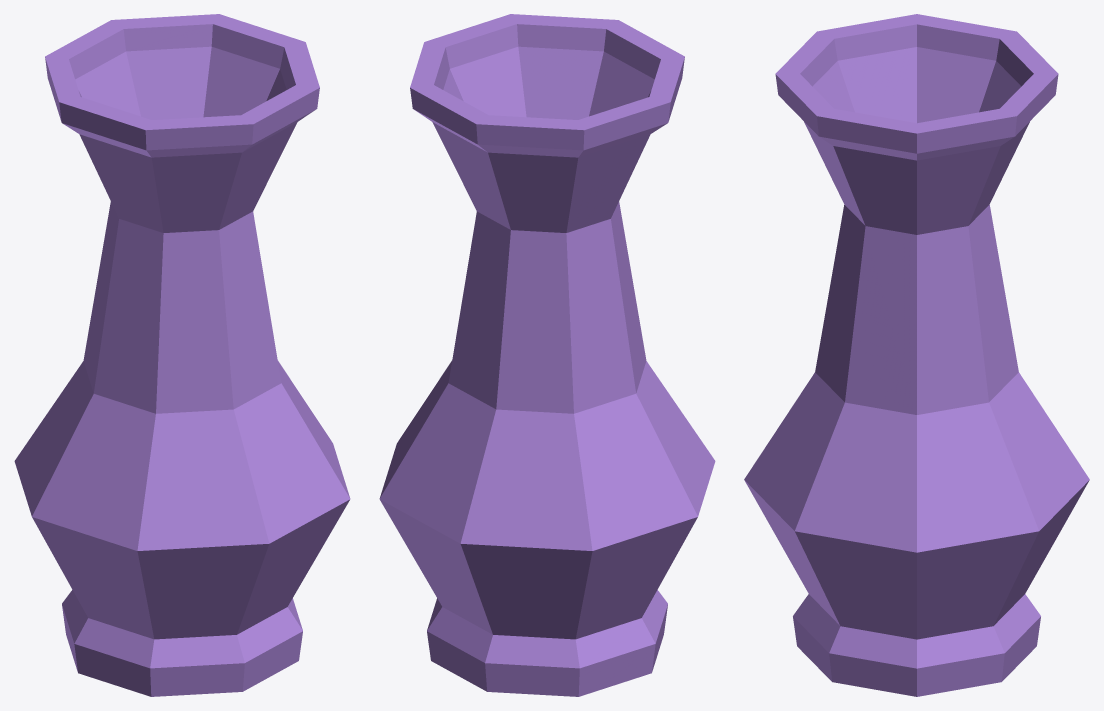
Rendered from Vase2.glb.
3 renders of one model, left to right at view 1: azimuth 30°, elevation 25°; view 2: azimuth 150°, elevation 25°; view 3: azimuth 270°, elevation 25°, orthographic.
Parts seen in each view (by area): view 1: Vase2; view 2: Vase2; view 3: Vase2.
Boxes of the visible parts, x1,y1,x2,y2 form: Vase2: (14, 14, 350, 696); Vase2: (379, 14, 715, 696); Vase2: (744, 14, 1089, 696).
Size of the model in its own units: 0.1676 by 0.306 by 0.1676.
